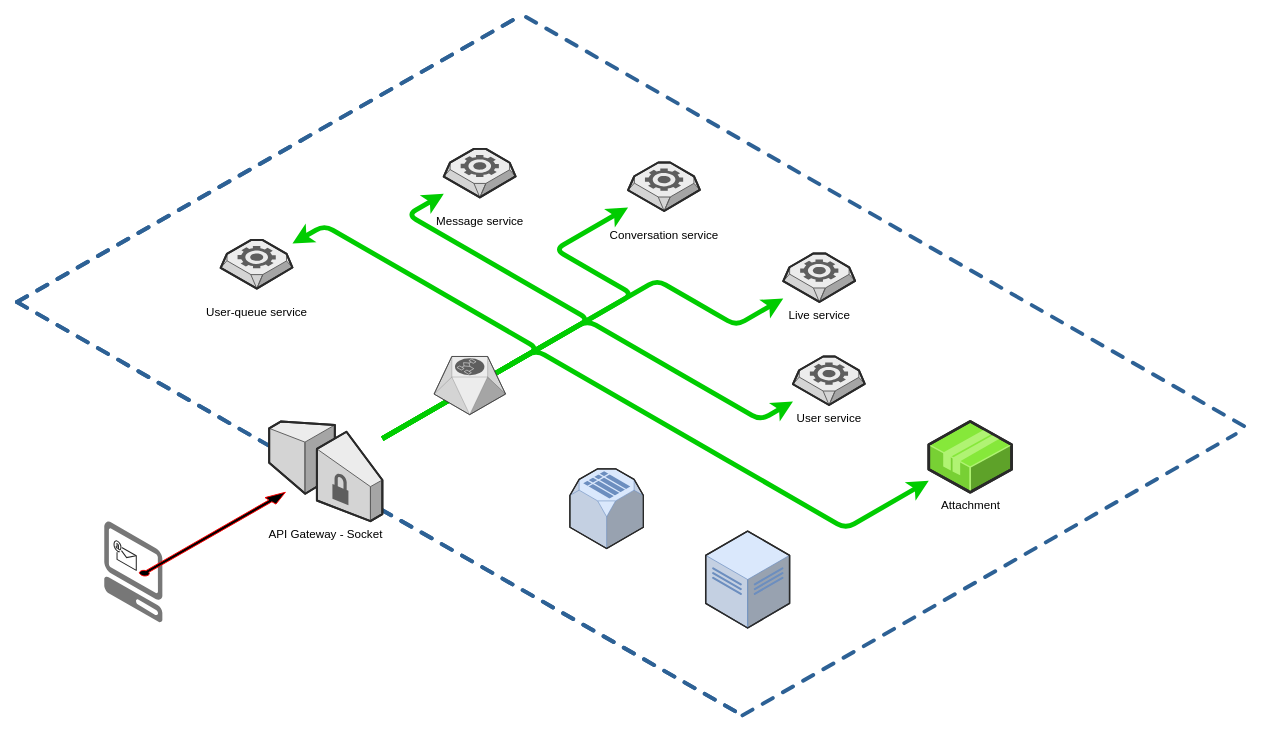
Some shapes in this 1268 by 732 pixel diagram are drawn without their labels. The shapes that lost their labels are listed below. From the top down, each one's centre as x and y in pixels, then its label:
At point 469,385: "Authentication".
At point 606,508: "Redis".
At point 747,579: "MongoDB".
